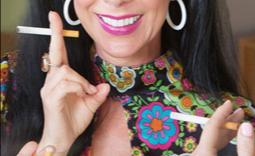Cigarette: (170, 111, 238, 131), (16, 26, 78, 38)
